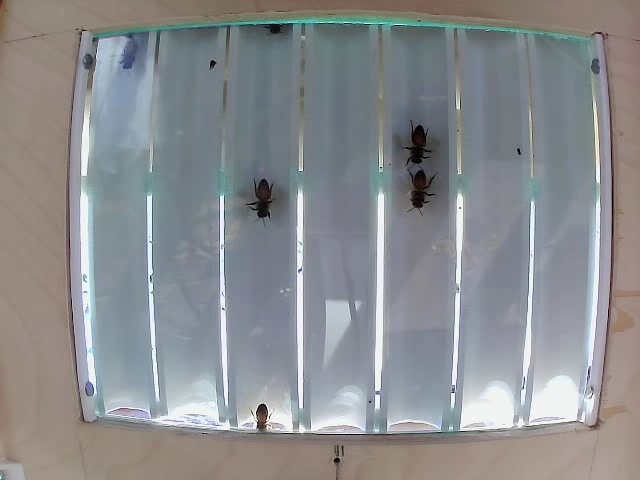bee: (245, 165, 289, 224), (403, 160, 443, 217), (404, 115, 435, 164)
